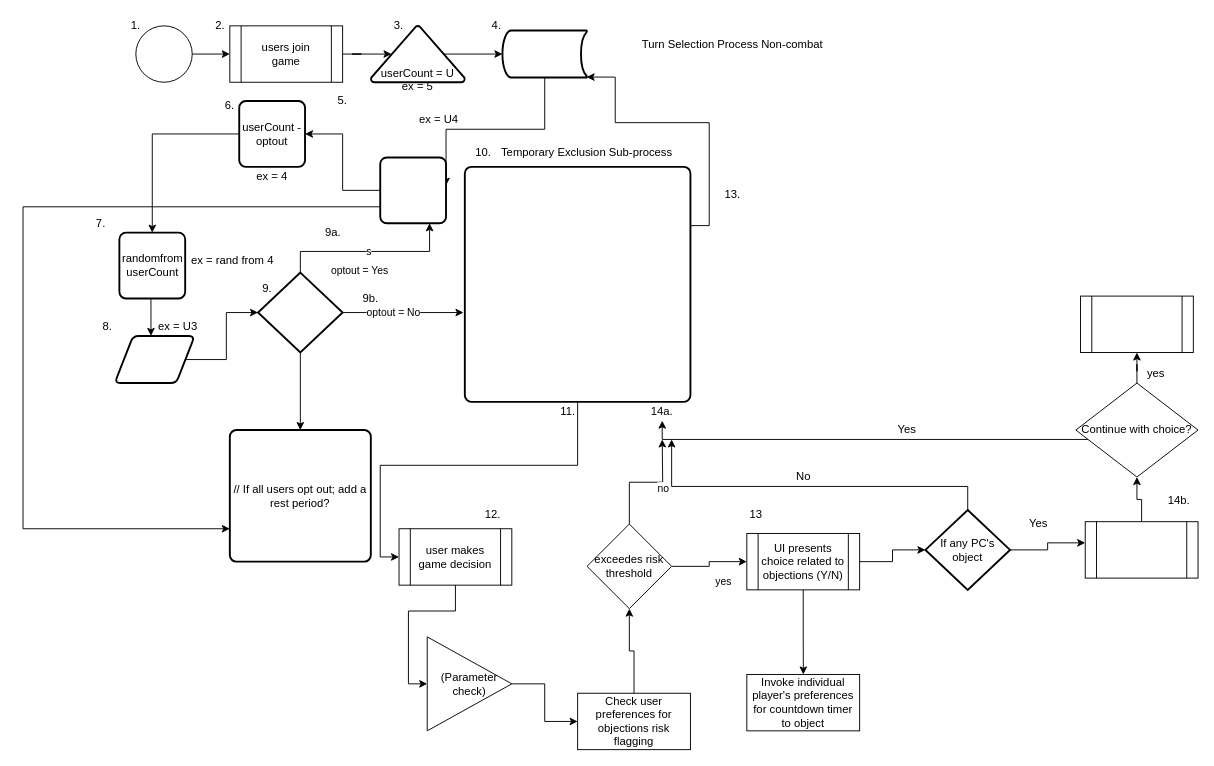
The diagram is 1214 pixels wide and 766 high, and some of its shapes have lost their labels. The shapes that lost their labels are listed below. From the top down, each one's box as (x1, y1, x2, y2) in pixels, then its label:
(135, 25, 192, 82): start
(501, 29, 588, 78): store userCount
(379, 156, 446, 224): user optout process
(257, 271, 343, 353): user optout process2
(1080, 295, 1193, 352): break out to group discussion/chat
(113, 335, 195, 384): selectedUser
(1084, 521, 1198, 578): Descion is shown the number of objections
